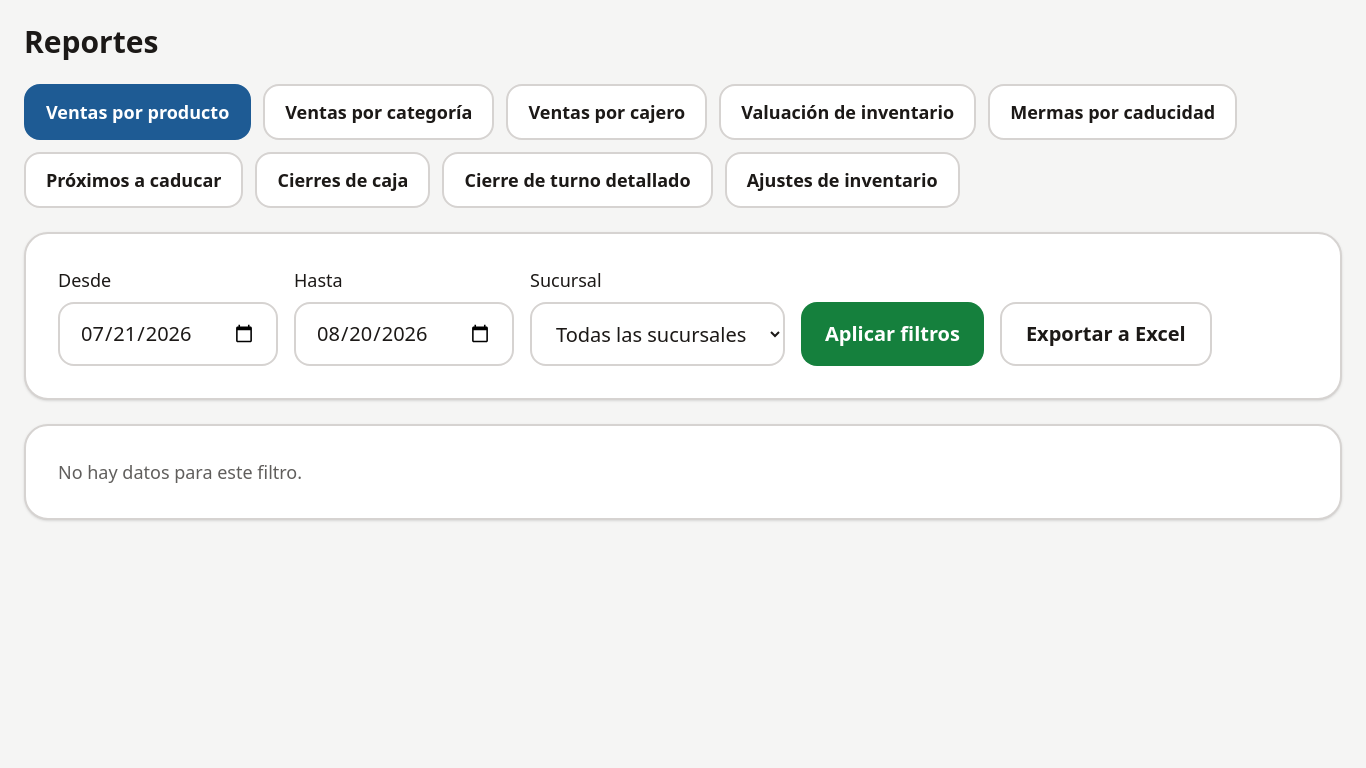
it: ReportsScreen › cambiar a "Valuación de inventario" oculta los filtros de fecha y consulta ese reporte
Check: the text "No hay datos para este filtro." is shown, box [58, 460, 302, 484]
Click the button "Valuación de inventario" at (848, 112), box [719, 84, 976, 140]
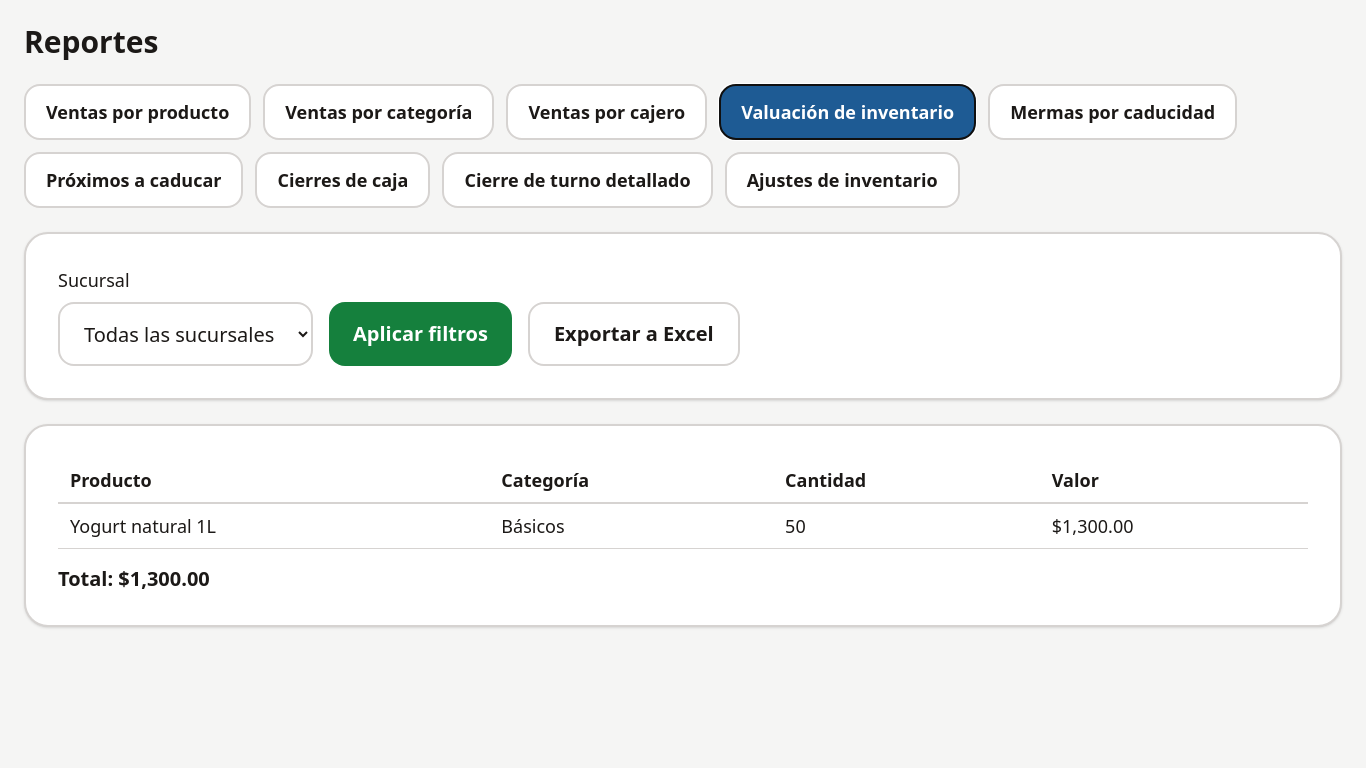
Check: the text "Yogurt natural 1L" is shown, box [58, 503, 489, 548]
Check: the text "Total: $1,300.00" is shown, box [58, 565, 210, 592]
Check: the label labelled "Desde" is gone
